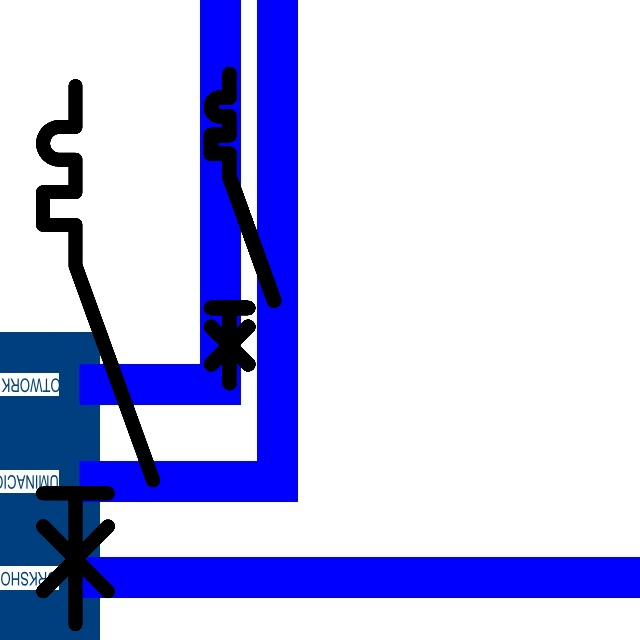interruptor_termomagnetico: (29, 72, 167, 637), (203, 66, 282, 391)
